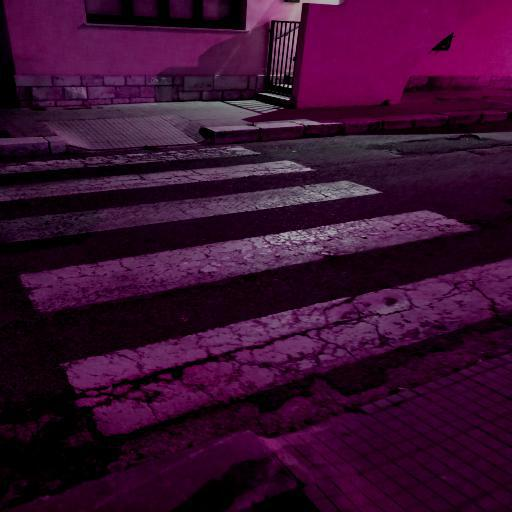crosswalk: (8, 208, 512, 444)
